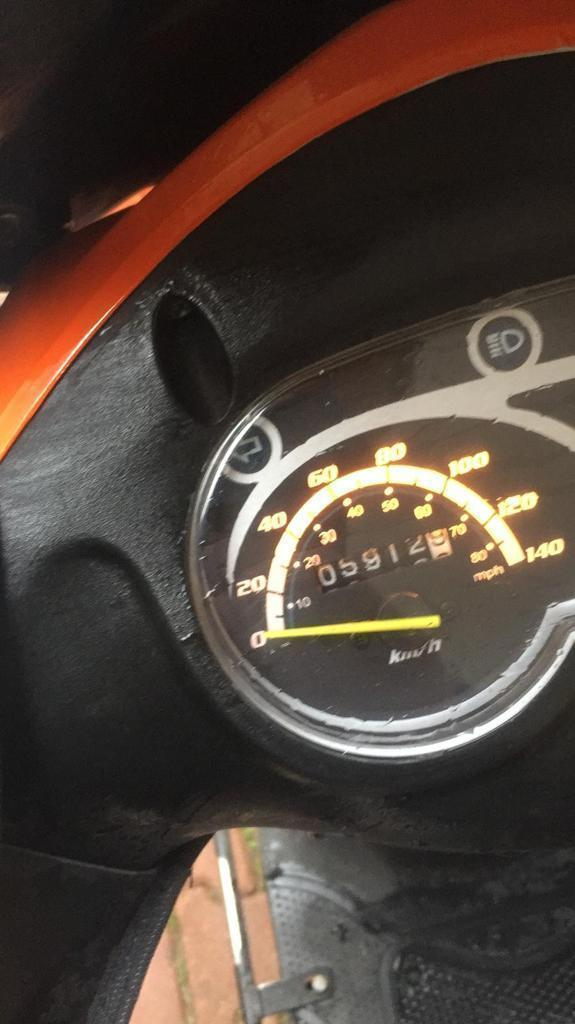0: (317, 562, 338, 587), (327, 527, 337, 543), (311, 554, 321, 566)
1: (387, 543, 400, 566)
2: (403, 534, 428, 556)
3: (318, 531, 328, 546)
5: (338, 554, 359, 577)
7: (448, 525, 456, 537)
9: (360, 547, 385, 571), (429, 528, 446, 546)
odometer: (310, 524, 455, 596)
